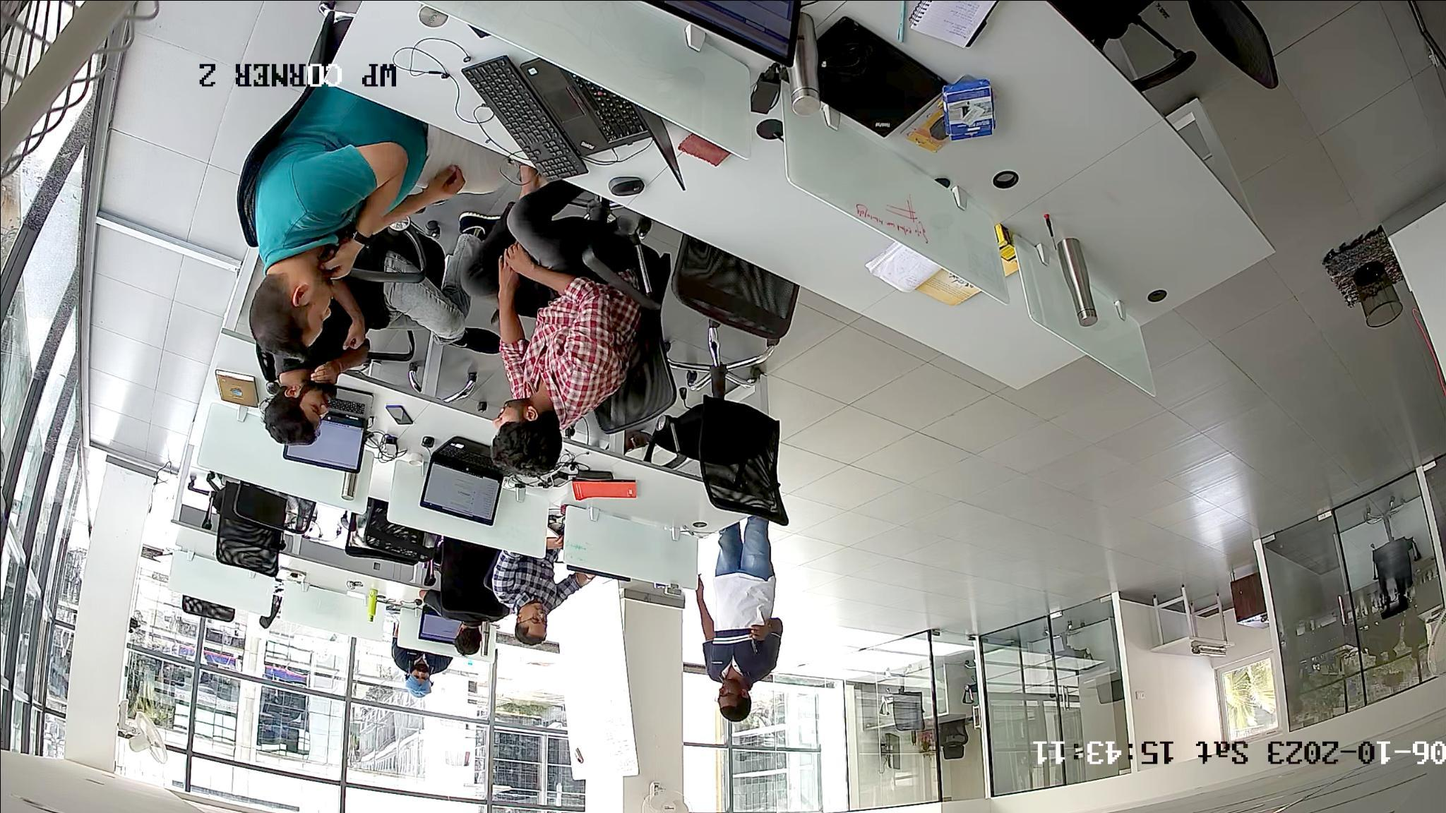gun: (748, 624, 761, 655)
